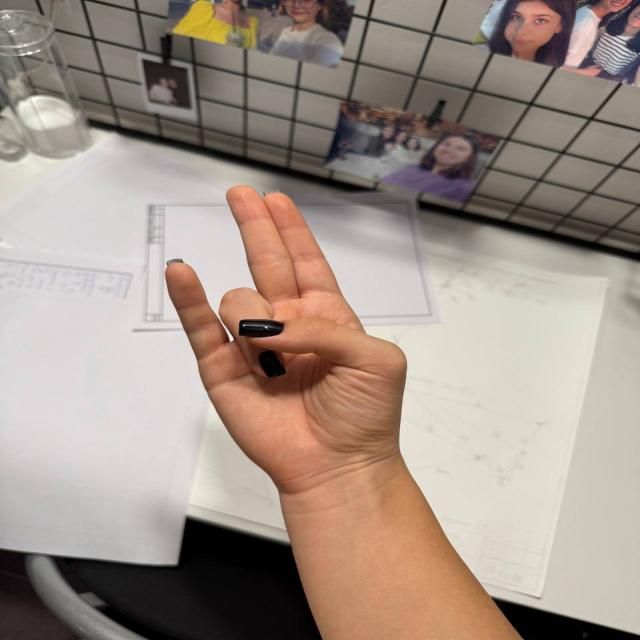n: (114, 164, 442, 464)
